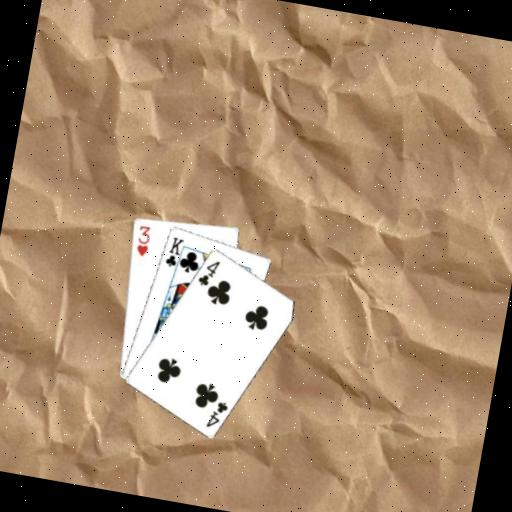3H: (132, 221, 153, 258)
4C: (193, 254, 222, 289), (202, 396, 230, 432)
KC: (160, 232, 188, 273)
